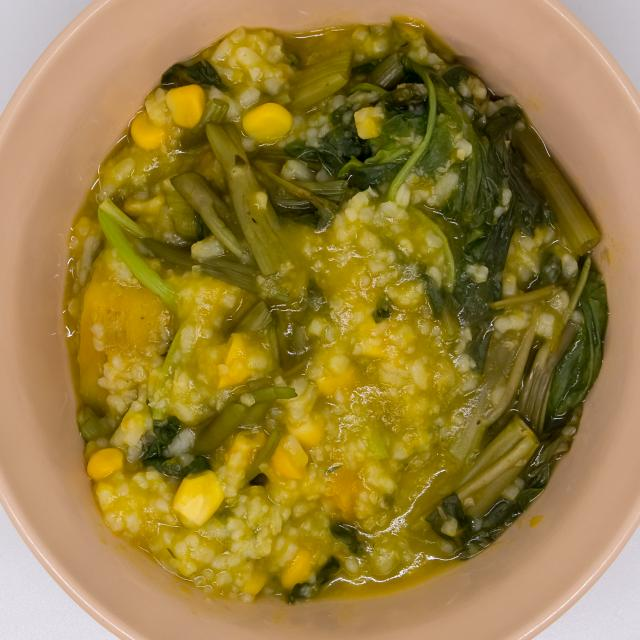Bubur-Manado: (52, 4, 620, 613)
